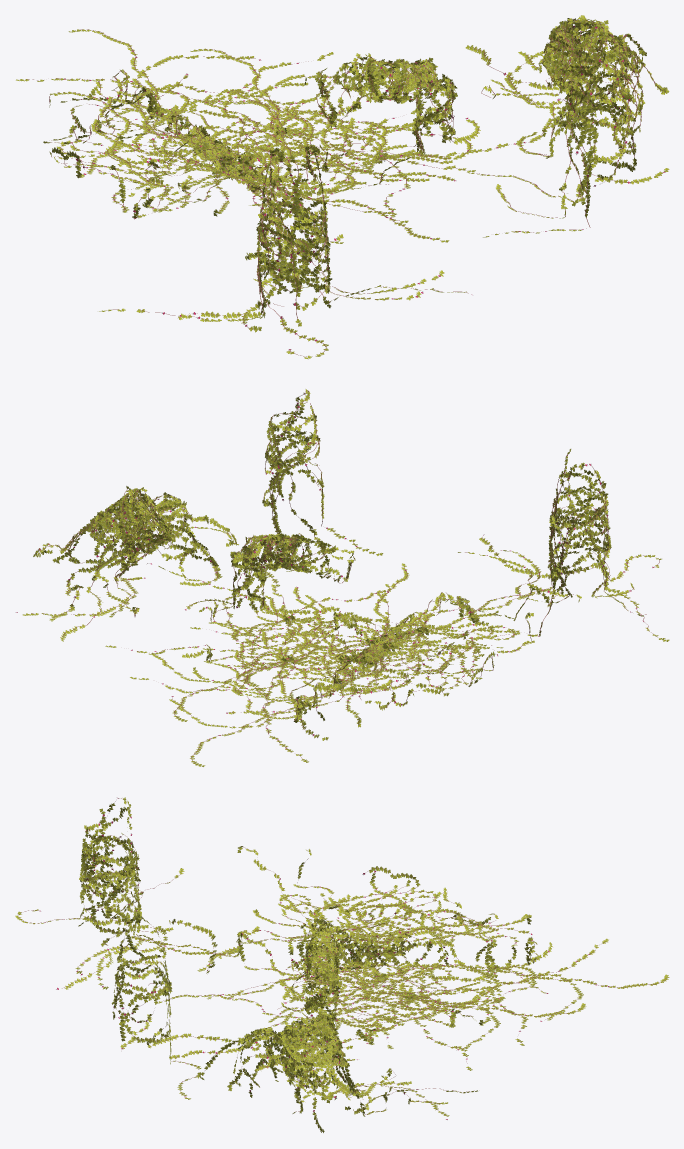
The model's file is Procedural Ivy Long(Clone).fbx.
3 renders of one model, top to bottom at view 1: azimuth 30°, elevation 25°; view 2: azimuth 150°, elevation 25°; view 3: azimuth 270°, elevation 25°, orthographic. The views are drawn at different scales.
Parts seen in each view (by area): view 1: Combined mesh (×3); view 2: Combined mesh (×3); view 3: Combined mesh (×3).
Boxes of the visible parts, x1,y1,x2,y2 form: Combined mesh (×3): (16,15,669,359); Combined mesh (×3): (15,389,669,766); Combined mesh (×3): (15,797,669,1132).
Size of the model in its own units: 22.01 by 5.57 by 23.09.
